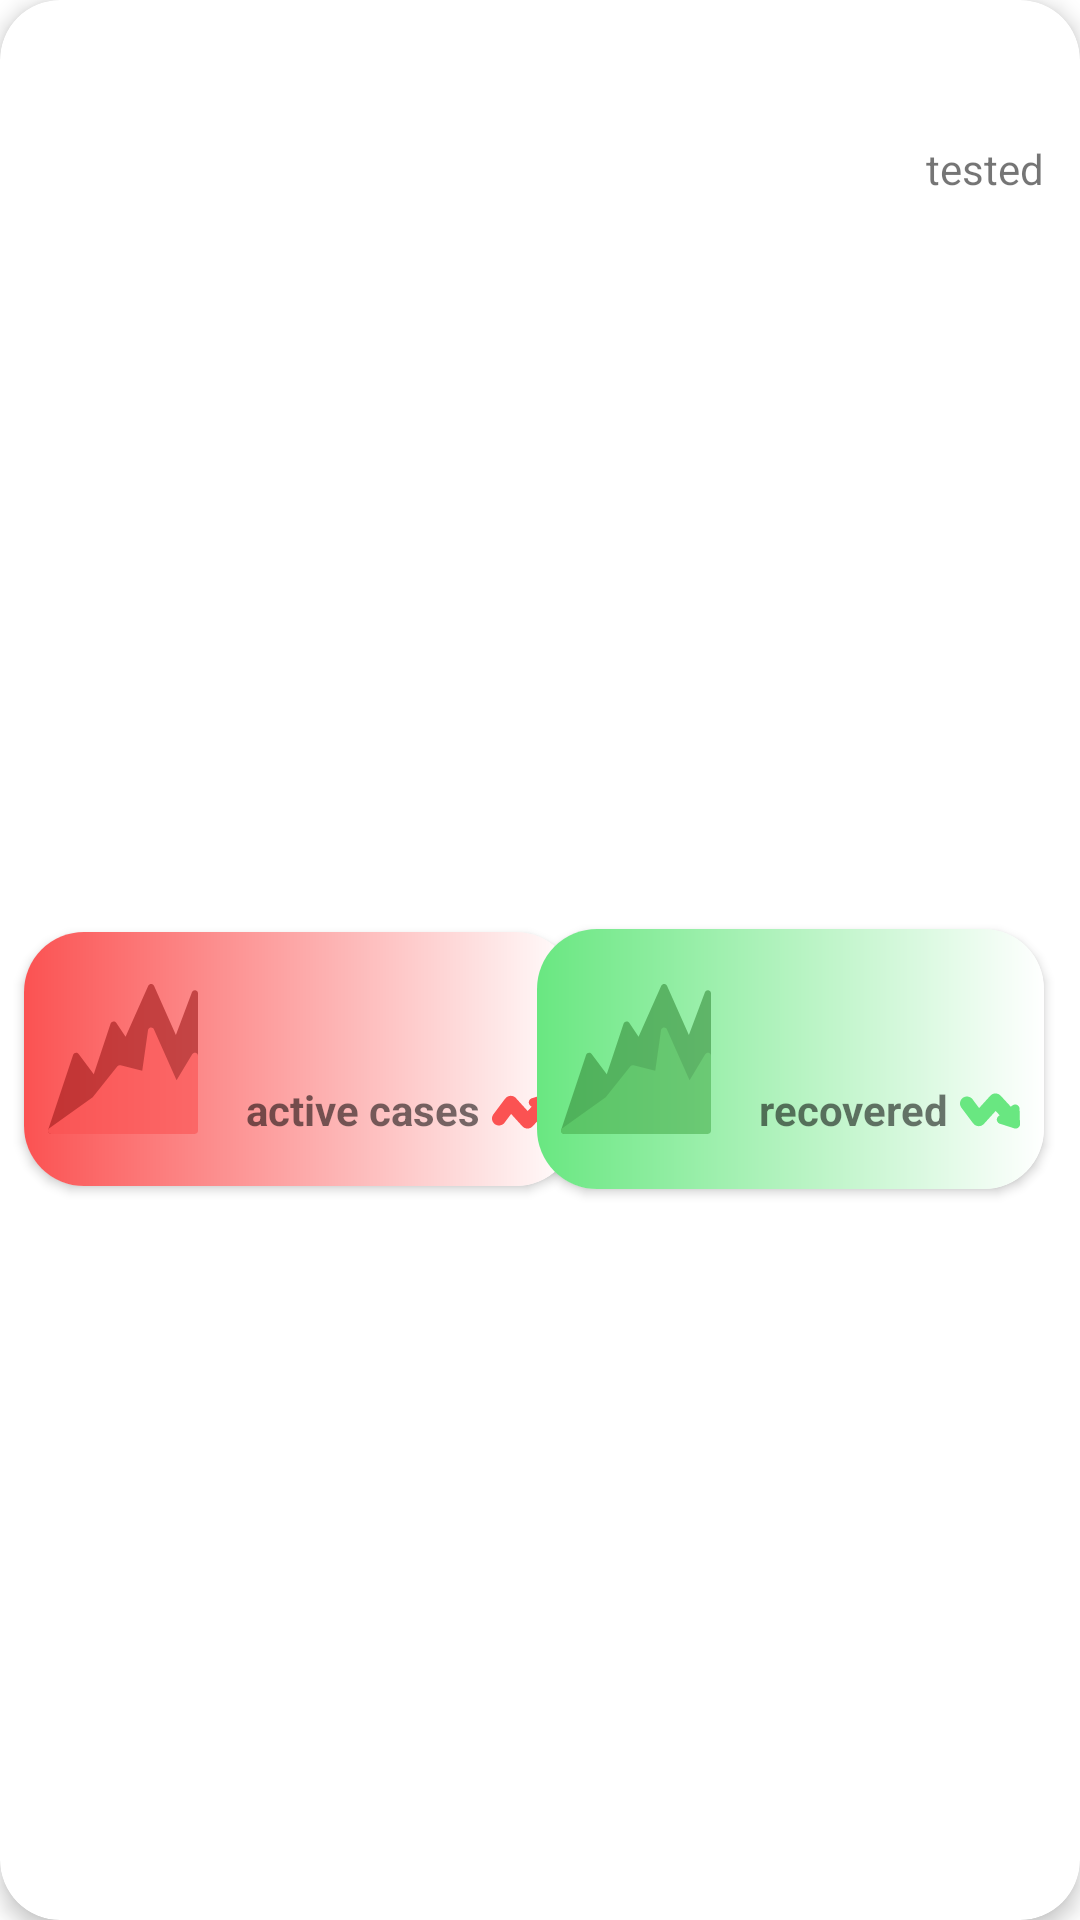

Icons on this 1080*1920 Android screen, each with the point to tap as (x,y):
arrows down: (990,1111)
graphic up: (123,1059)
